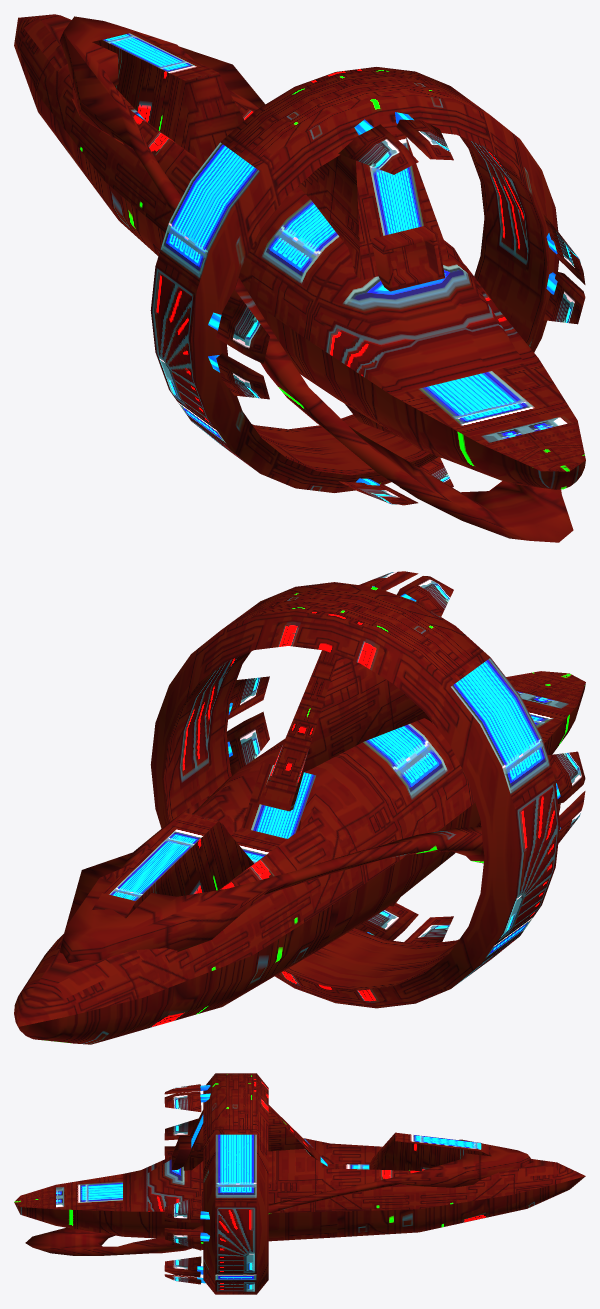
File: Vul_Tmir.fbx
3 renders of one model, top to bottom at view 1: azimuth 30°, elevation 25°; view 2: azimuth 150°, elevation 25°; view 3: azimuth 270°, elevation 25°, orthographic. The views are drawn at different scales.
Parts seen in each view (by area): view 1: Vul_Tmir; view 2: Vul_Tmir; view 3: Vul_Tmir.
Part boxes in pixels (x1,y1,x2,y2): Vul_Tmir: (14, 14, 585, 542); Vul_Tmir: (14, 571, 585, 1044); Vul_Tmir: (14, 1073, 585, 1294).
Bounding box in the file's own units: 114 × 114 × 295.
1 material, 1 textured.
